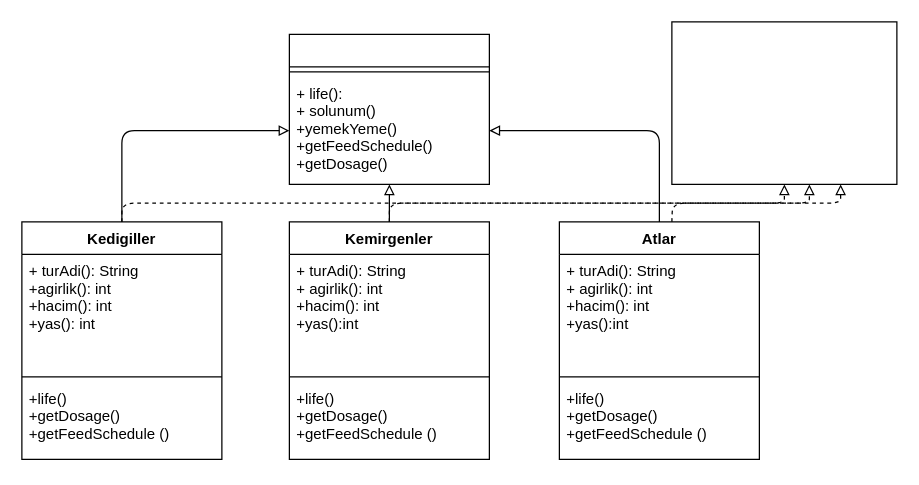
Image size: 919x485. Some labels were removed from this diagram. Each missing label, with the box of its shape:
<<Interface>> Feed + getDosage(): + getFeedSchedule():: (671, 21, 897, 184)
Hayvanlar: (288, 33, 489, 184)
